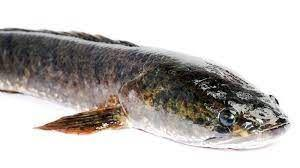Mudfish: (0, 20, 291, 156)
